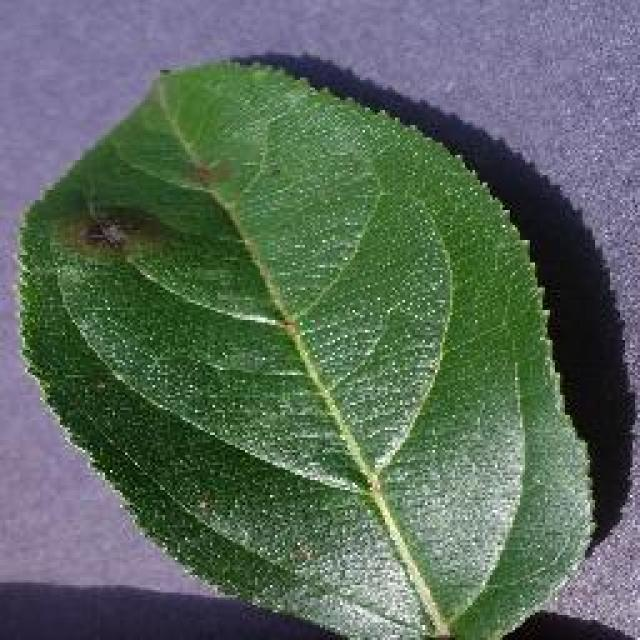apple scab disease: (12, 52, 600, 638)
